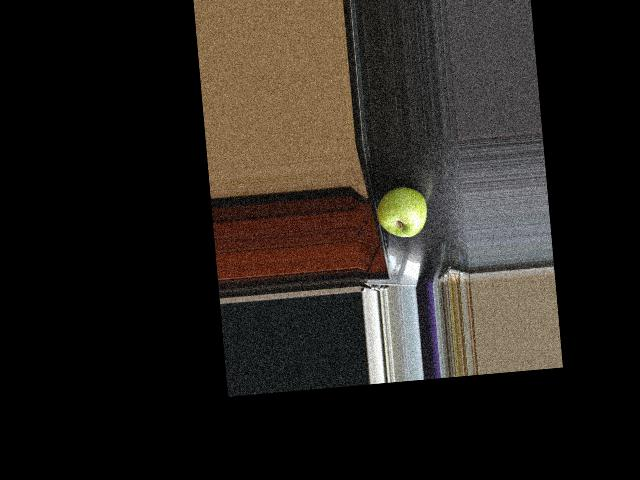apple: (373, 181, 432, 242)
